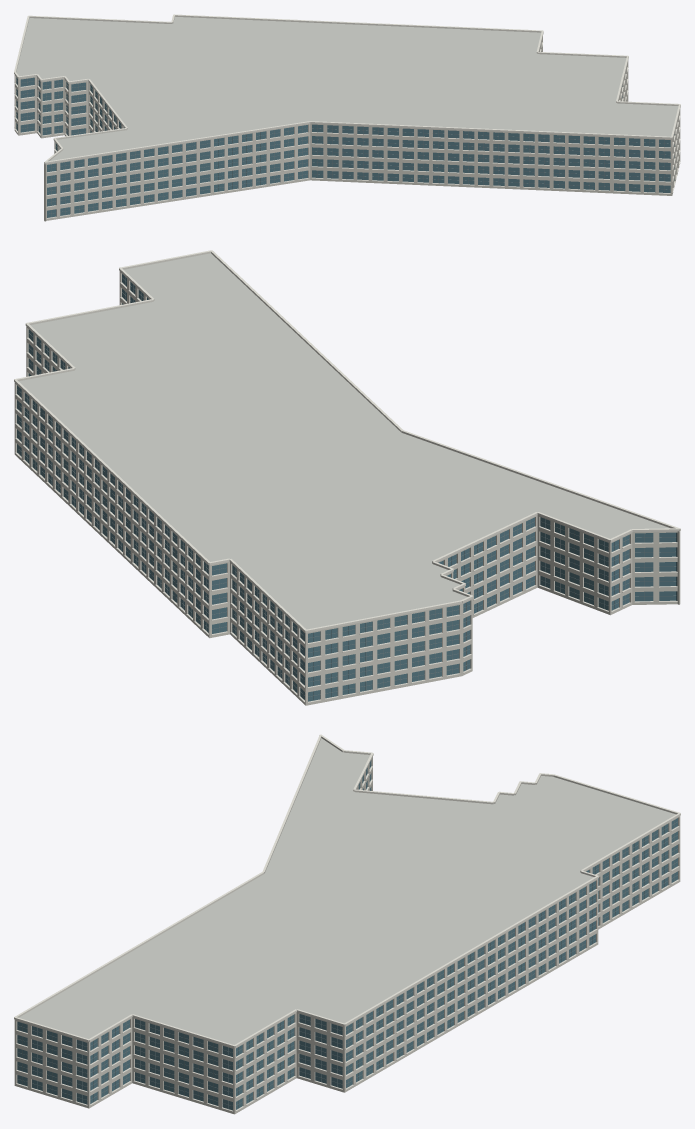
3 views of the same model, one above another, from view 1: azimuth 30°, elevation 25°; view 2: azimuth 150°, elevation 25°; view 3: azimuth 270°, elevation 25° (orthographic). The views are drawn at different scales.
Visible parts, largest first — view 1: roof, wall, glass, trim, metal; view 2: roof, wall, glass, trim, metal; view 3: roof, wall, glass, trim, metal.
Boxes of the visible parts, x1=… form: roof: x1=16, y1=16, x2=678, y2=160; wall: x1=14, y1=36, x2=680, y2=221; glass: x1=16, y1=77, x2=674, y2=217; trim: x1=14, y1=14, x2=680, y2=218; metal: x1=16, y1=79, x2=670, y2=216; roof: x1=19, y1=253, x2=669, y2=629; wall: x1=14, y1=271, x2=680, y2=705; glass: x1=17, y1=274, x2=677, y2=701; trim: x1=14, y1=250, x2=680, y2=702; metal: x1=17, y1=277, x2=675, y2=700; roof: x1=19, y1=738, x2=675, y2=1044; wall: x1=14, y1=757, x2=680, y2=1114; glass: x1=17, y1=760, x2=677, y2=1110; trim: x1=14, y1=734, x2=680, y2=1111; metal: x1=17, y1=762, x2=677, y2=1108.
Bounding box in the file's own units: 159 × 16.34 × 144.
